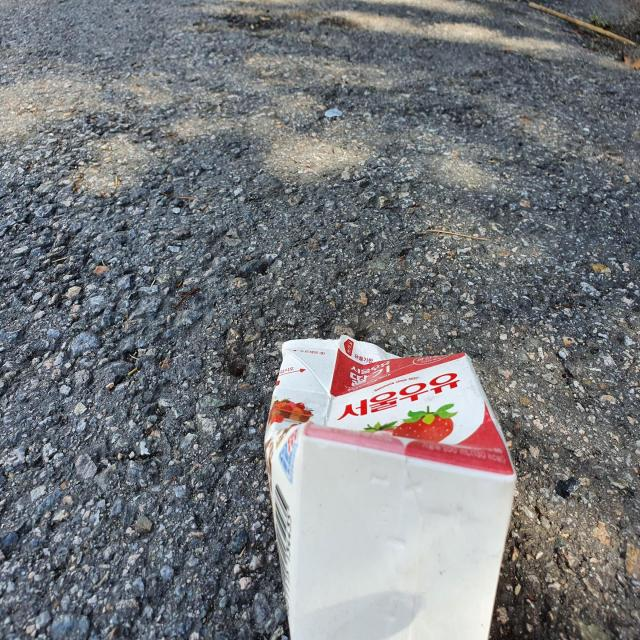paperpack: (265, 336, 517, 640)
